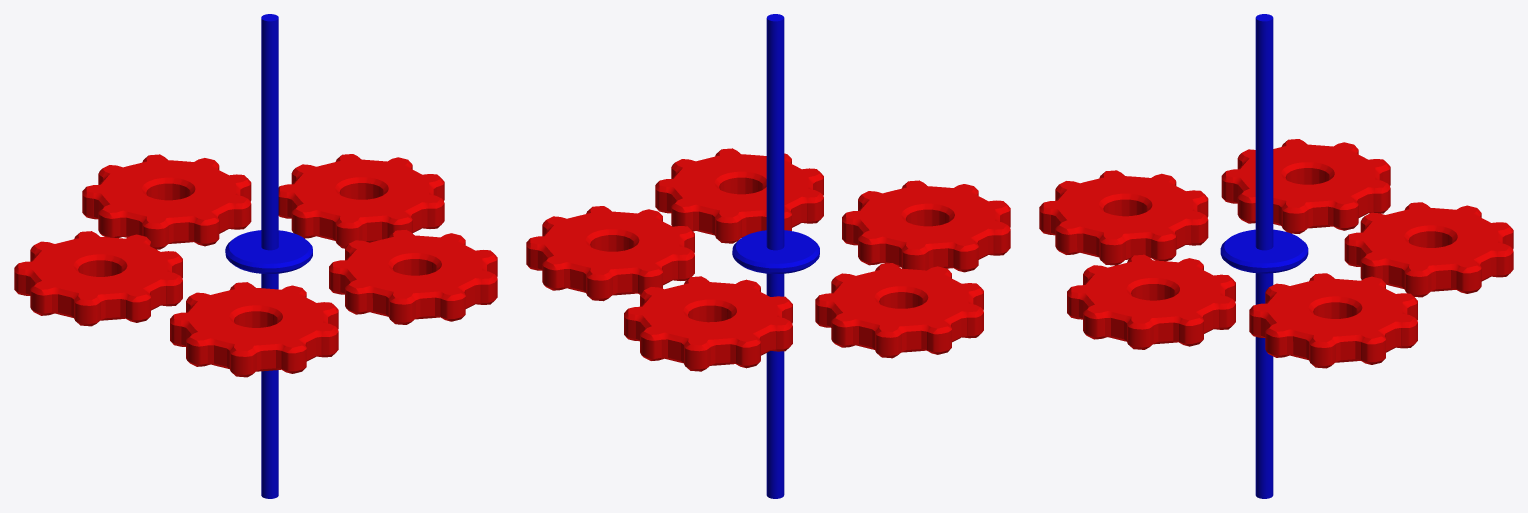
File: Stage_Rotation.fbx
3 views of the same model, side by side, from view 1: azimuth 30°, elevation 25°; view 2: azimuth 150°, elevation 25°; view 3: azimuth 270°, elevation 25° (orthographic).
Parts seen in each view (by area): view 1: pCylinder3; view 2: pCylinder3; view 3: pCylinder3.
Part boxes in pixels (x1,y1,x2,y2): pCylinder3: [14, 14, 497, 498]; pCylinder3: [526, 14, 1010, 498]; pCylinder3: [1039, 14, 1513, 498].
Size of the model in its own units: 82.84 by 89.22 by 80.3.
